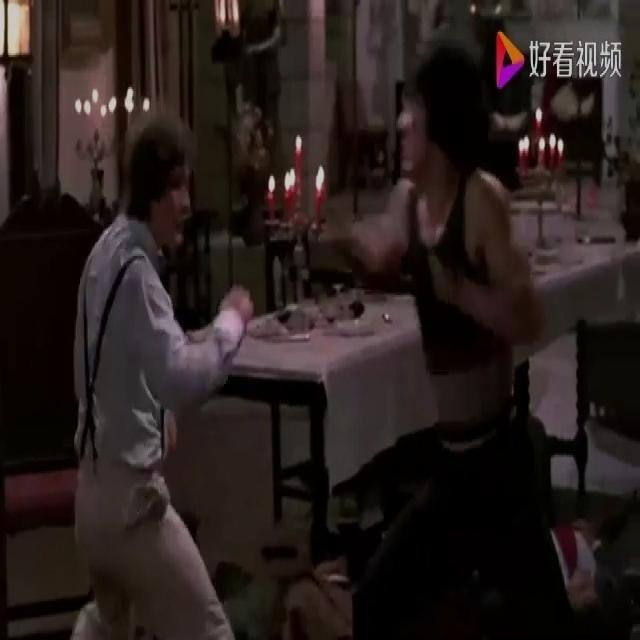fight: (44, 36, 627, 638)
